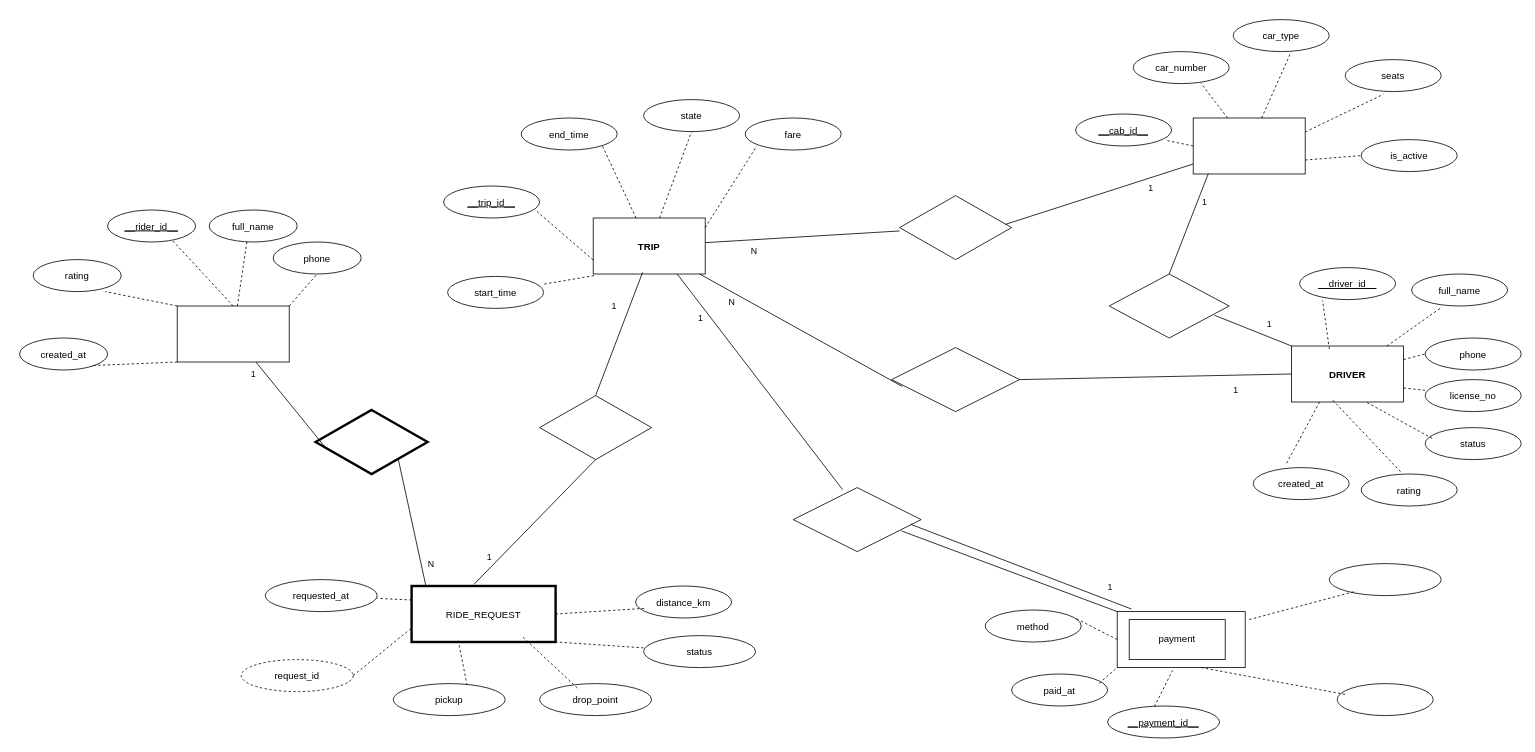
The diagram is 1535 pixels wide and 752 high, and some of its shapes have lost their labels. The box of each missing label's shape, as (x1, y1, x2, y2) in pixels:
amount: (1336, 683, 1433, 716)
ASSIGNED_TO: (891, 347, 1020, 412)
CAB: (1192, 117, 1305, 174)
GENERATES: (539, 395, 652, 460)
HAS_PAYMENT: (792, 487, 921, 552)
OPERATES: (1108, 273, 1229, 338)
payment_state: (1328, 563, 1441, 596)
REQUESTS: (314, 408, 428, 475)
RIDER: (176, 305, 289, 362)
USES: (899, 195, 1012, 260)
